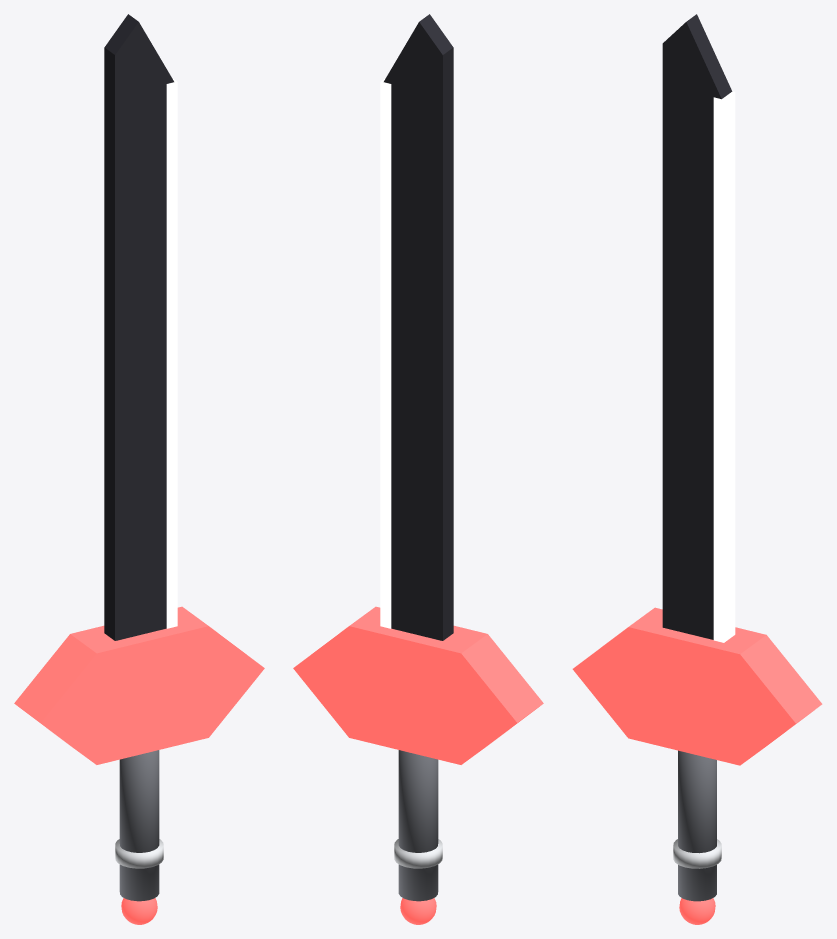
The model's file is StarSparkSword.glb.
The picture shows the model from 3 angles, left to right: view 1: azimuth 30°, elevation 25°; view 2: azimuth 150°, elevation 25°; view 3: azimuth 330°, elevation 25°; orthographic projection.
Visible parts, largest first — view 1: StarSparkSword; view 2: StarSparkSword; view 3: StarSparkSword.
Boxes of the visible parts, x1,y1,x2,y2 form: StarSparkSword: (14, 14, 264, 924); StarSparkSword: (293, 14, 543, 924); StarSparkSword: (572, 14, 822, 924).
Size of the model in its own units: 0.34 by 1.31 by 0.07.
